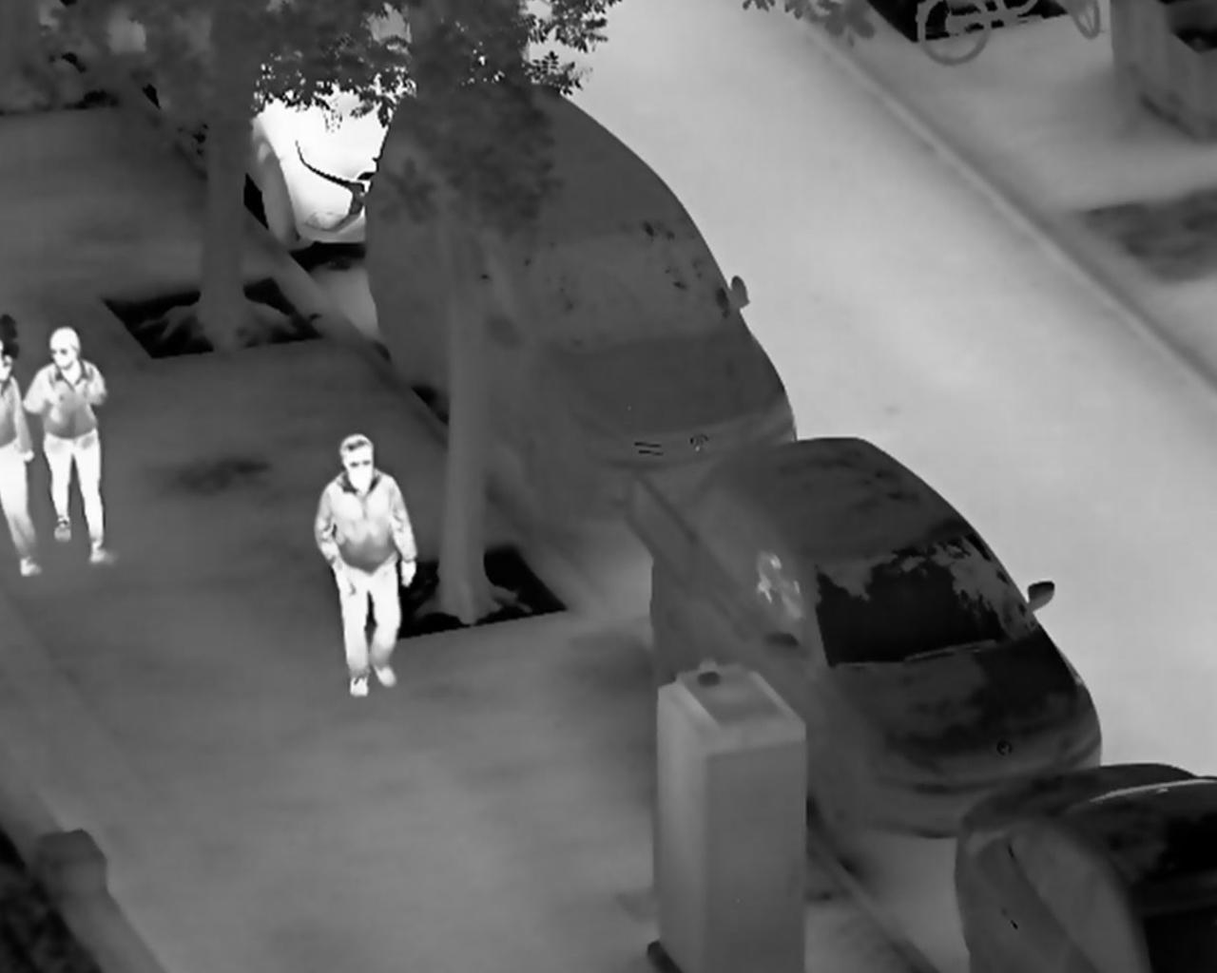person: (311, 431, 422, 703), (23, 324, 123, 568)
